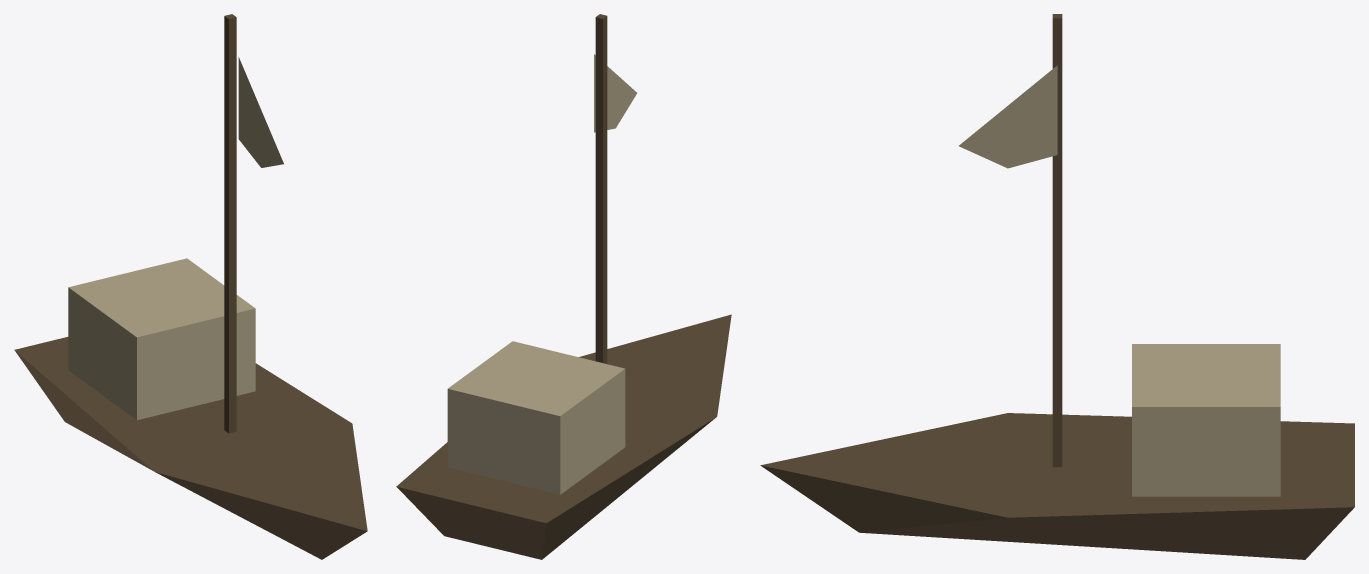
File: coastal_boat.glb
3 views of the same model, side by side, from view 1: azimuth 30°, elevation 25°; view 2: azimuth 150°, elevation 25°; view 3: azimuth 270°, elevation 25° (orthographic). The views are drawn at different scales.
Parts seen in each view (by area): view 1: hull, cabin.001, mast, shredded sail; view 2: hull, cabin.001, mast, shredded sail; view 3: hull, cabin.001, shredded sail, mast.
Part boxes in pixels (x1,y1,x2,y2): hull: [14, 337, 367, 559]; cabin.001: [68, 258, 255, 420]; mast: [224, 14, 236, 433]; shredded sail: [238, 57, 283, 167]; hull: [396, 314, 731, 559]; cabin.001: [447, 341, 625, 494]; mast: [595, 14, 607, 363]; shredded sail: [594, 54, 636, 132]; hull: [760, 413, 1354, 559]; cabin.001: [1132, 344, 1280, 496]; shredded sail: [959, 65, 1057, 168]; mast: [1052, 14, 1062, 467].
Bounding box in the file's own units: 5 × 11.5 × 12.
